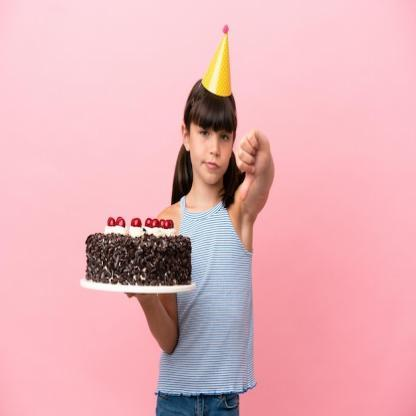thumb_down: (235, 126, 272, 208)
